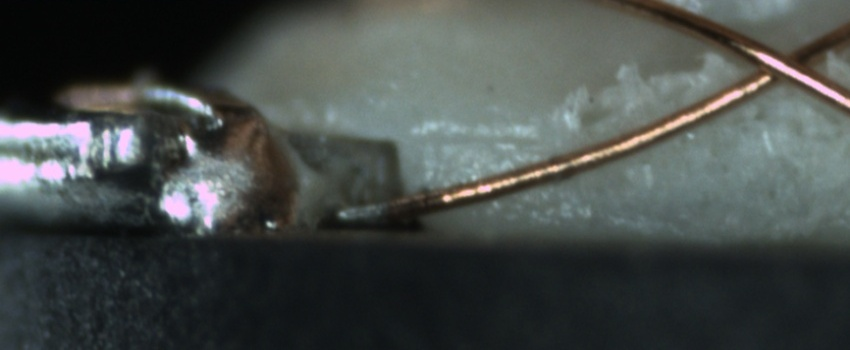CL: (714, 27, 844, 98)
DL: (416, 110, 544, 171)
TE: (60, 79, 159, 106)
TS: (329, 201, 389, 224)
